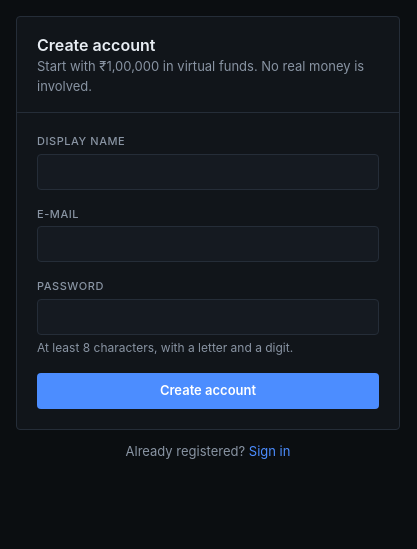
it: RegisterPage › shows a duplicate e-mail error from the server
Type "Asha Trader" into the field labelled "Display name" at (208, 172), box 37,154 -> 379,190
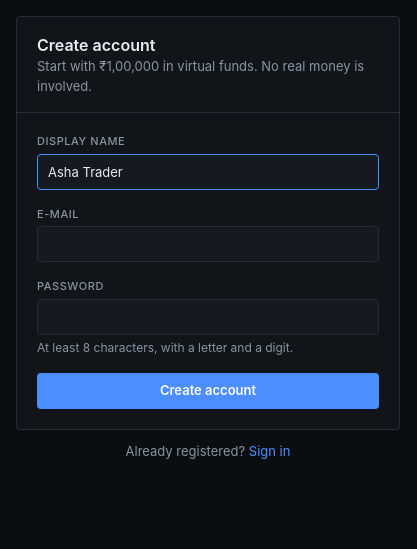
Type "asha@example.com" into the field labelled "E-mail" at (208, 244), box 37,226 -> 379,262
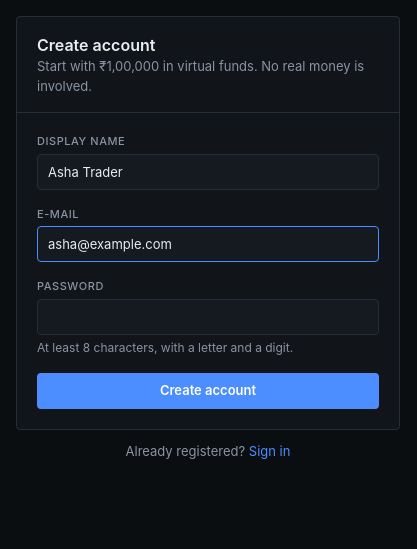
Type "Password1" into the password field labelled "Password" at (208, 316), box 37,298 -> 379,334
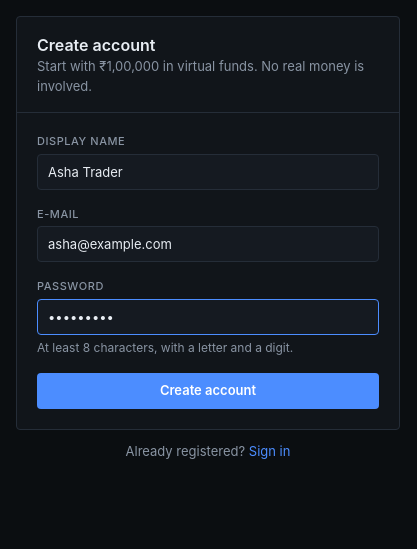
Click the button "Create account" at (208, 390), box 37,372 -> 379,408
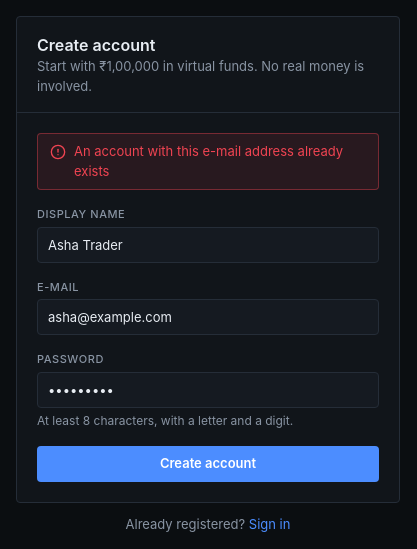
Expected: the message shows "already exists", 74,143 -> 343,178
